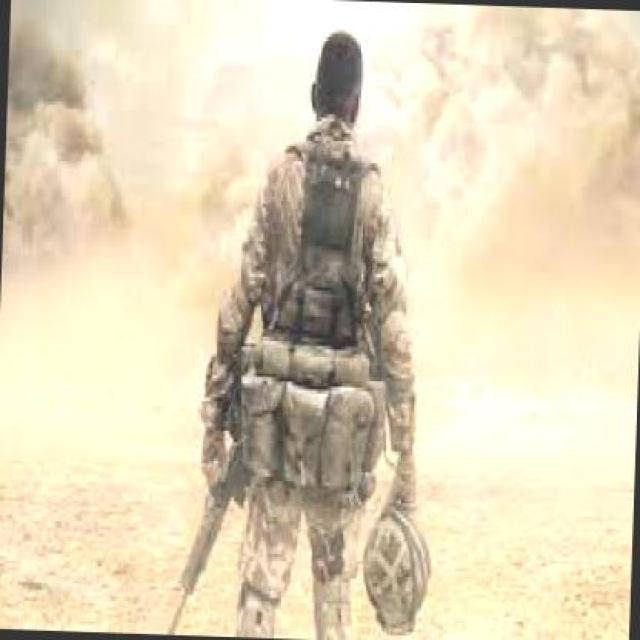MIL_Pax: (188, 21, 455, 638)
